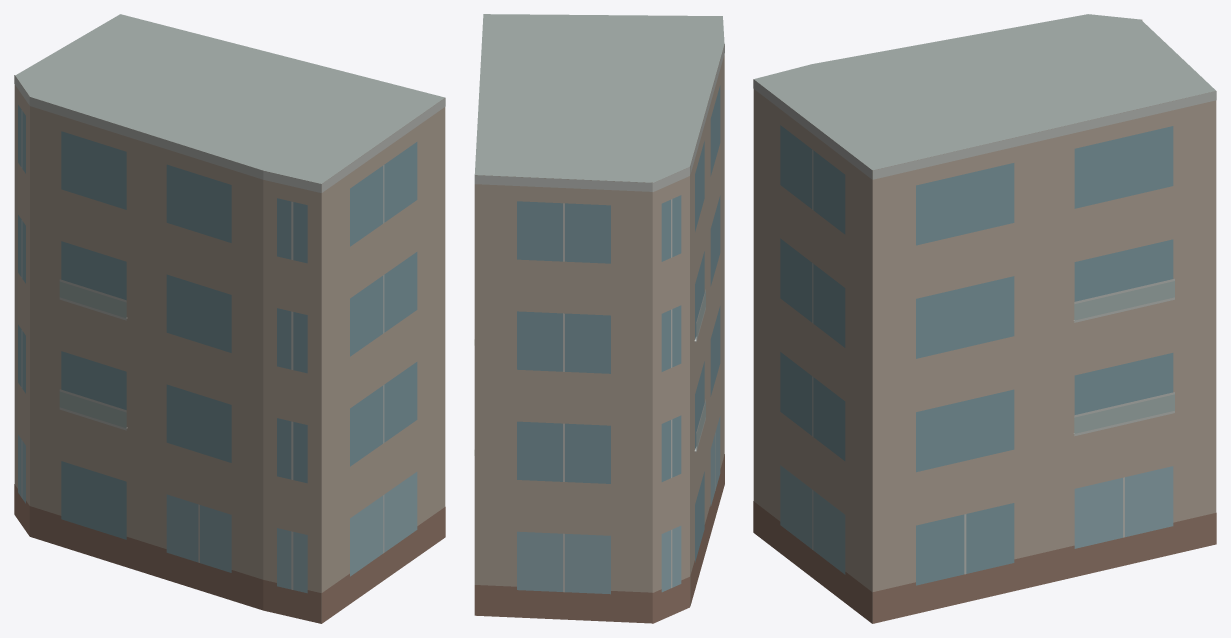
The model's file is survey-upis-33006315.glb.
The picture shows the model from 3 angles, left to right: view 1: azimuth 30°, elevation 25°; view 2: azimuth 150°, elevation 25°; view 3: azimuth 270°, elevation 25°; orthographic projection. The views are drawn at different scales.
Parts seen in each view (by area): view 1: survey-upis-33006315.tmp; view 2: survey-upis-33006315.tmp; view 3: survey-upis-33006315.tmp.
Part boxes in pixels (<box>): survey-upis-33006315.tmp: <box>14,14,445,623</box>; survey-upis-33006315.tmp: <box>474,14,724,623</box>; survey-upis-33006315.tmp: <box>753,14,1216,623</box>.
Bounding box in the file's own units: 8.66 × 11.7 × 10.83.
